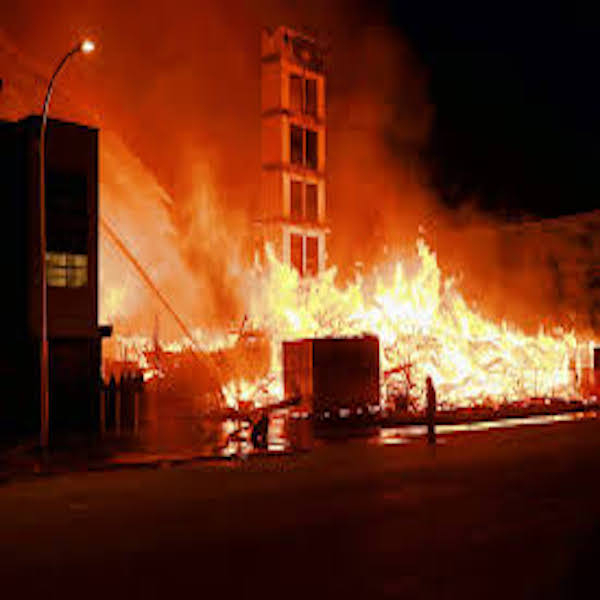fire: (261, 240, 471, 341), (381, 323, 590, 414), (127, 330, 242, 356)
